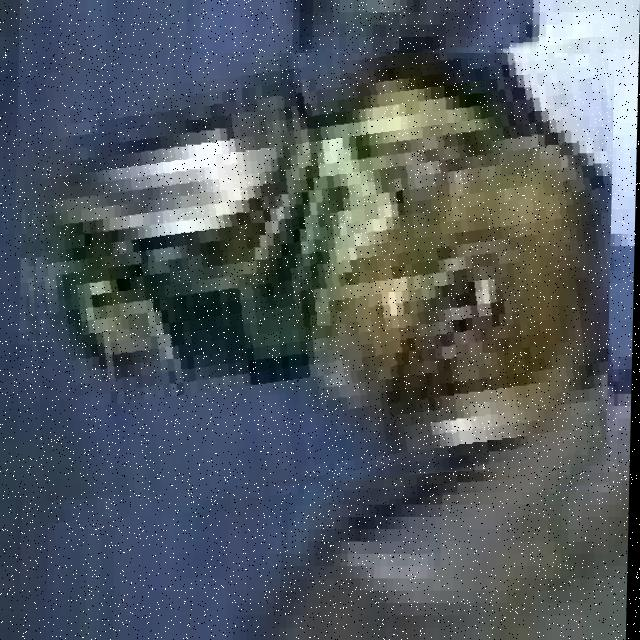litter: (25, 53, 612, 487)
